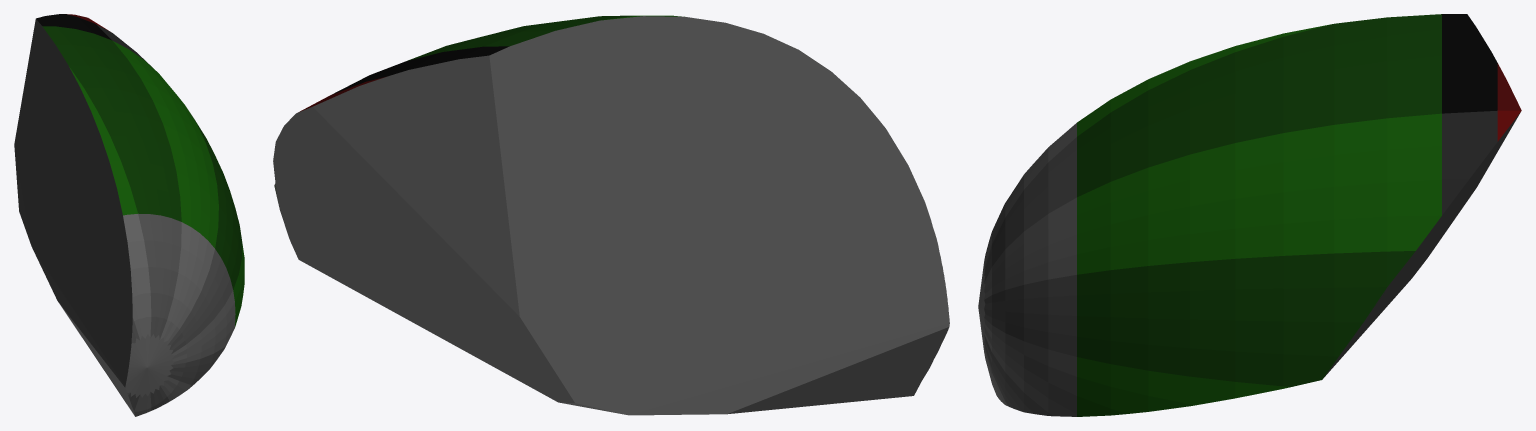
File: Mortarmellon piece1.glb
3 views of the same model, side by side, from view 1: azimuth 30°, elevation 25°; view 2: azimuth 150°, elevation 25°; view 3: azimuth 270°, elevation 25° (orthographic). The views are drawn at different scales.
Parts seen in each view (by area): view 1: Mortarmelon Body_cell; view 2: Mortarmelon Body_cell; view 3: Mortarmelon Body_cell.
Boxes of the visible parts, left/top/right/bottom form: Mortarmelon Body_cell: left=14, top=14, right=244, bottom=416; Mortarmelon Body_cell: left=273, top=15, right=949, bottom=415; Mortarmelon Body_cell: left=978, top=14, right=1521, bottom=416.
Size of the model in its own units: 0.9694 by 1.17 by 1.41.
